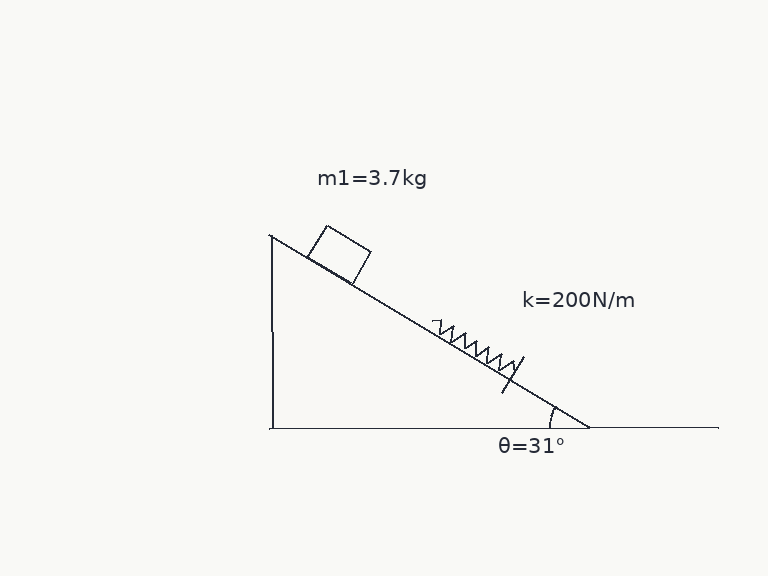block: (305, 223, 372, 286)
ramp: (268, 233, 592, 429)
spring: (430, 317, 517, 373)
